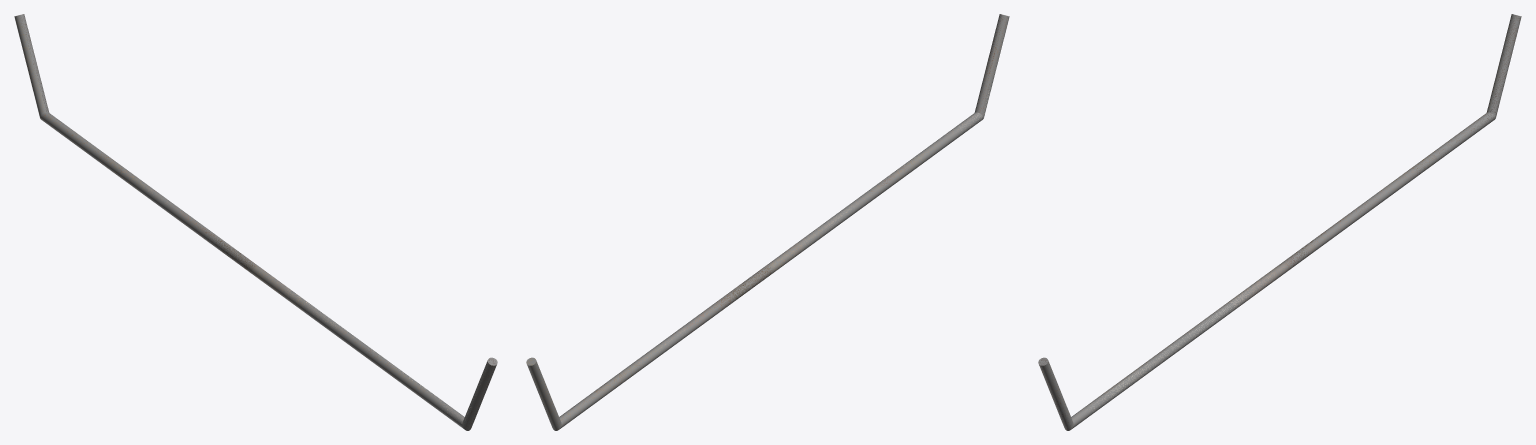
The model's file is original-75.obj.
The picture shows the model from 3 angles, left to right: view 1: azimuth 30°, elevation 25°; view 2: azimuth 150°, elevation 25°; view 3: azimuth 330°, elevation 25°; orthographic projection.
Visible parts, largest first — view 1: Component_6_20/Component_6/mesh44/mesh44-geometry#mesh44-geometr; view 2: Component_6_20/Component_6/mesh44/mesh44-geometry#mesh44-geometr; view 3: Component_6_20/Component_6/mesh44/mesh44-geometry#mesh44-geometr.
Part boxes in pixels (left/top/right/bottom): Component_6_20/Component_6/mesh44/mesh44-geometry#mesh44-geometr: left=14, top=14, right=497, bottom=430; Component_6_20/Component_6/mesh44/mesh44-geometry#mesh44-geometr: left=526, top=14, right=1009, bottom=430; Component_6_20/Component_6/mesh44/mesh44-geometry#mesh44-geometr: left=1038, top=14, right=1521, bottom=430.
Size of the model in its own units: 0.00621 by 0.0592 by 0.5759.
